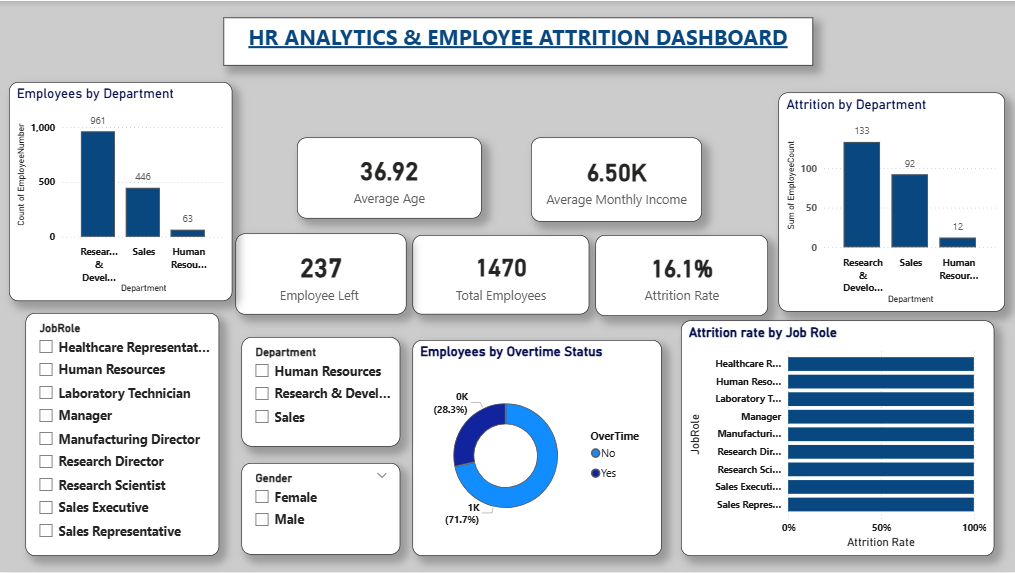

Layout of this report page (visuals, bound fields, positions):
{"tool":"powerbi","page":{"name":"HR Overview","canvas":[1280,720],"ordinal":0},"visuals":[{"type":"card","fields":{"Values":["HR_Employee_Data.Total Employees"]},"box":[519.7,294.8,223,100.2],"z":0},{"type":"card","fields":{"Values":["HR_Employee_Data.Attrition Rate"]},"box":[750.2,294.8,217.3,102],"z":1000},{"type":"card","fields":{"Values":["HR_Employee_Data.Average Age"]},"box":[374.2,172,232.4,102],"z":2000},{"type":"card","fields":{"Values":["HR_Employee_Data.Average Monthly Income"]},"box":[669,172,215.4,105.8],"z":3000},{"type":"card","fields":{"Values":["HR_Employee_Data.Total Attrition"]},"box":[296.7,292.9,215.4,102],"z":4000},{"type":"clusteredColumnChart","title":"Employees by Department","fields":{"Category":["HR_Employee_Data.Department"],"Y":["CountNonNull(HR_Employee_Data.EmployeeNumber)"]},"box":[11.3,102,281.6,275.9],"z":5000},{"type":"clusteredColumnChart","title":"Attrition by Department","fields":{"Category":["HR_Employee_Data.Department"],"Y":["Sum(HR_Employee_Data.EmployeeCount)"]},"box":[980.8,115.3,285.4,275.9],"z":6000},{"type":"clusteredBarChart","title":"Attrition rate by Job Role","fields":{"Category":["HR_Employee_Data.JobRole"],"Y":["HR_Employee_Data.Attrition Rate"]},"box":[858,402.5,395,296.7],"z":7000},{"type":"donutChart","title":"Employees by Overtime Status","fields":{"Category":["HR_Employee_Data.OverTime"],"Y":["Sum(HR_Employee_Data.EmployeeCount)"]},"box":[519.7,427.1,313.7,272.1],"z":8000},{"type":"slicer","fields":{"Values":["HR_Employee_Data.Department"]},"box":[304.3,423.3,200.3,138],"z":9000},{"type":"slicer","fields":{"Values":["HR_Employee_Data.Gender"]},"box":[304.3,582.1,200.3,115.3],"z":10000},{"type":"slicer","fields":{"Values":["HR_Employee_Data.JobRole"]},"box":[32.1,393.1,243.8,306.1],"z":11000},{"type":"textbox","box":[281.6,20.8,742.7,60.5],"z":12000}]}

Visuals, with their boxes in screenshot pixels (x1, y1, x2, y2), scaled from the page's 1280x720 canvas onto the 1015x573 screenshot:
card - HR_Employee_Data.Total Employees: BBox(412, 235, 589, 314)
card - HR_Employee_Data.Attrition Rate: BBox(595, 235, 767, 316)
card - HR_Employee_Data.Average Age: BBox(297, 137, 481, 218)
card - HR_Employee_Data.Average Monthly Income: BBox(530, 137, 701, 221)
card - HR_Employee_Data.Total Attrition: BBox(235, 233, 406, 314)
"Employees by Department" clusteredColumnChart: BBox(9, 81, 232, 301)
"Attrition by Department" clusteredColumnChart: BBox(778, 92, 1004, 311)
"Attrition rate by Job Role" clusteredBarChart: BBox(680, 320, 994, 556)
"Employees by Overtime Status" donutChart: BBox(412, 340, 661, 556)
slicer - HR_Employee_Data.Department: BBox(241, 337, 400, 447)
slicer - HR_Employee_Data.Gender: BBox(241, 463, 400, 555)
slicer - HR_Employee_Data.JobRole: BBox(25, 313, 219, 556)
textbox: BBox(223, 17, 812, 65)
